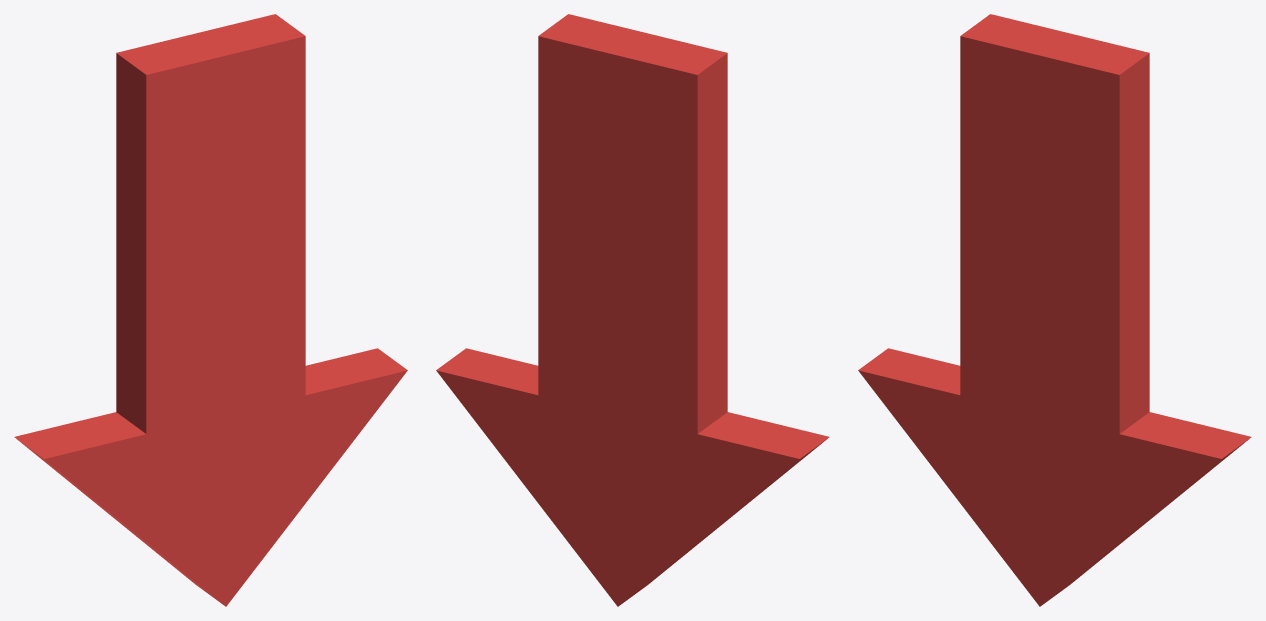
The model's file is SM_Arrow.fbx.
3 views of the same model, side by side, from view 1: azimuth 30°, elevation 25°; view 2: azimuth 150°, elevation 25°; view 3: azimuth 330°, elevation 25° (orthographic).
Parts seen in each view (by area): view 1: pCylinder84; view 2: pCylinder84; view 3: pCylinder84.
Part boxes in pixels (<box>): pCylinder84: <box>14,14,407,606</box>; pCylinder84: <box>436,14,829,606</box>; pCylinder84: <box>858,14,1251,606</box>.
Size of the model in its own units: 0.5728 by 0.8299 by 0.0825.
